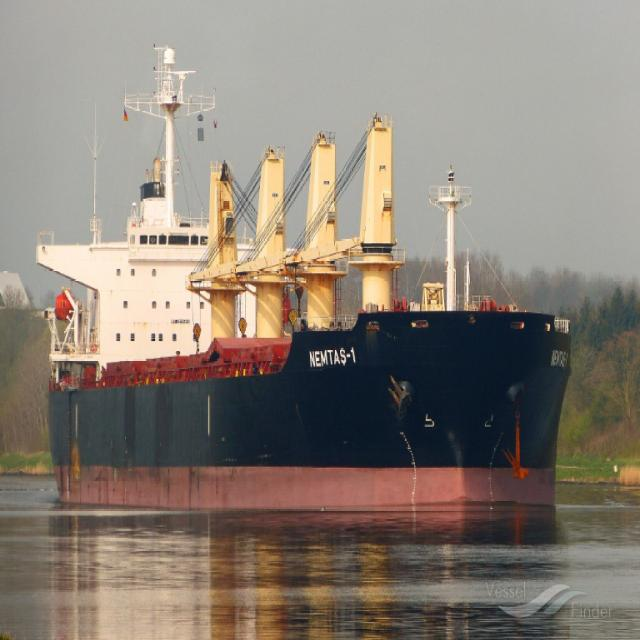OCR: (302, 344, 358, 374), (547, 343, 572, 378)
